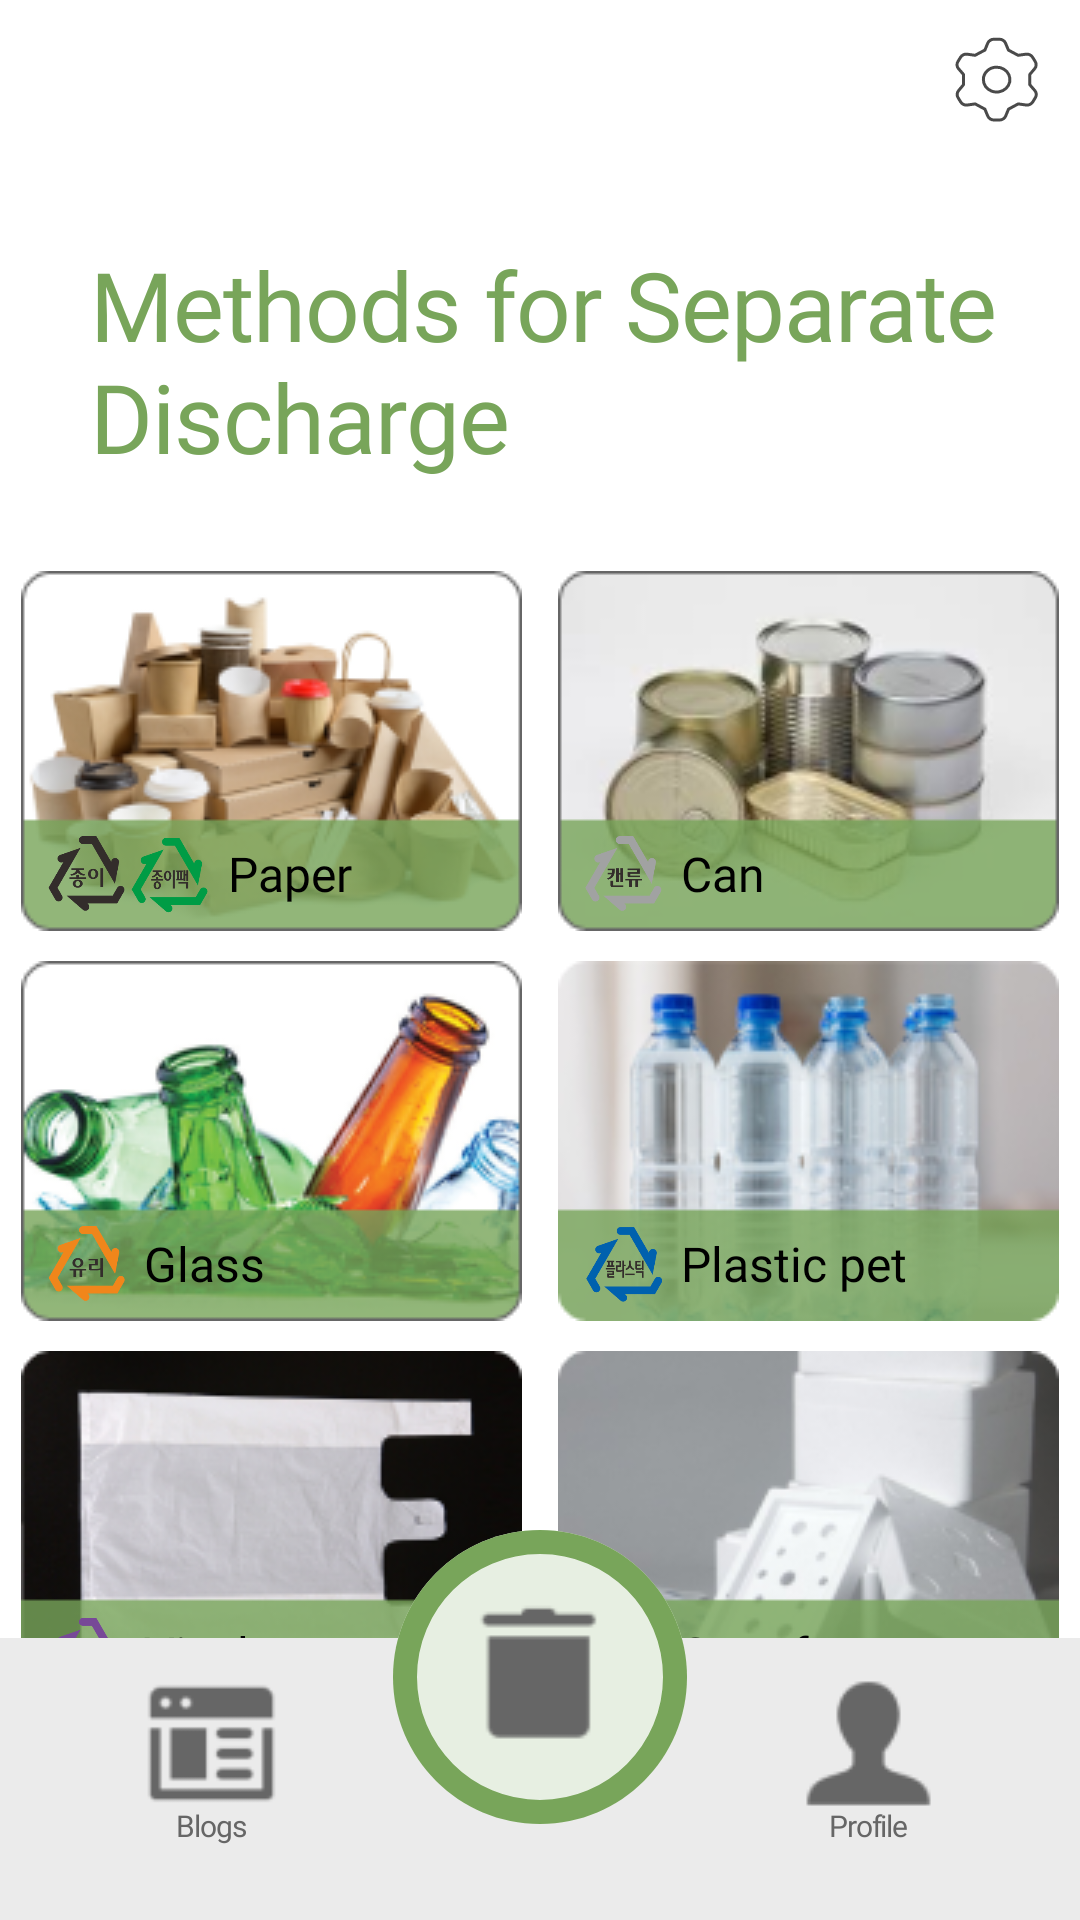

Point at icon controls on the screen. Image size 1080x1920, points as (x=x, y=y).
customer: (x=868, y=1743)
web: (x=211, y=1743)
